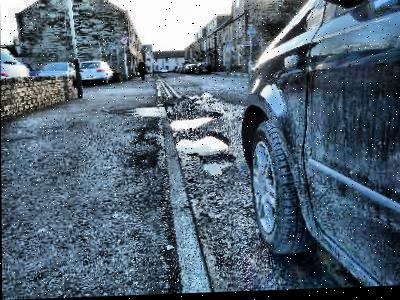pothole: (174, 132, 229, 156), (168, 111, 222, 134), (199, 155, 235, 178)
